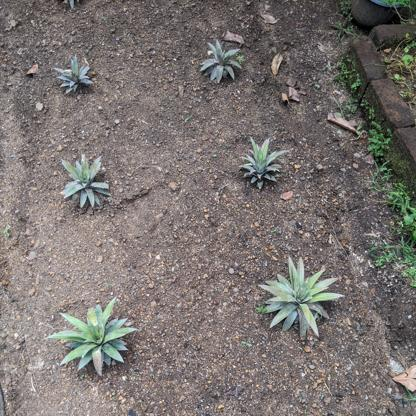pineapple: (256, 253, 344, 342), (45, 295, 137, 379), (56, 151, 113, 211), (237, 135, 291, 192), (199, 38, 247, 88), (52, 53, 93, 97)
